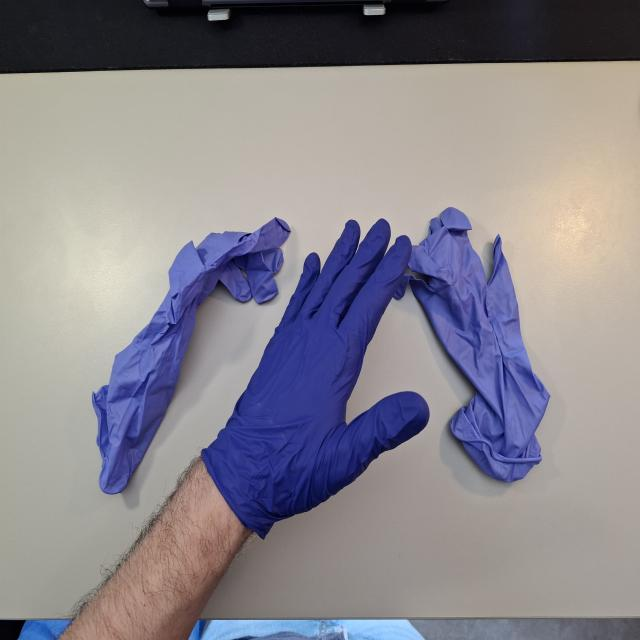glove_on: (214, 216, 433, 532)
